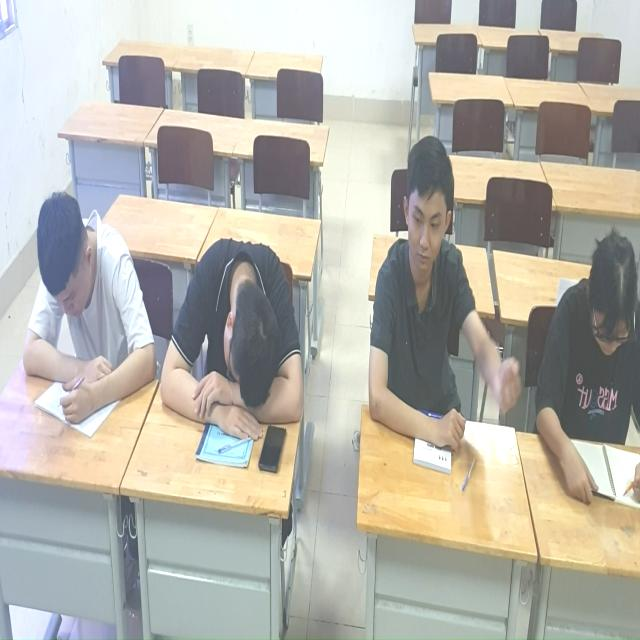raise_hand: (363, 127, 524, 483)
read: (17, 171, 152, 433), (533, 216, 640, 539)
sleep: (156, 228, 307, 434)
